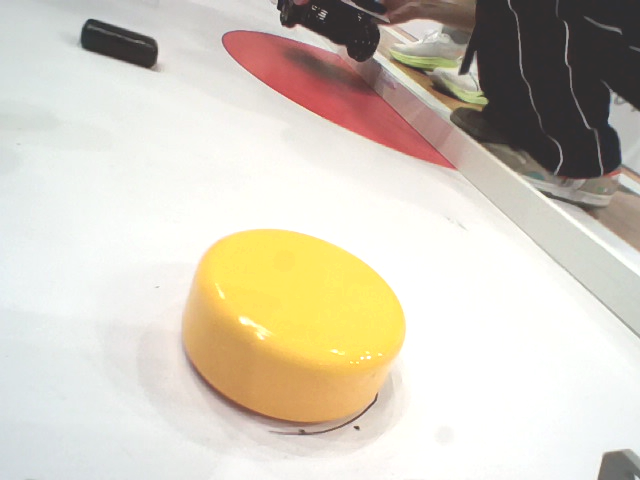black: (76, 18, 158, 66)
yellow: (180, 225, 406, 427)
